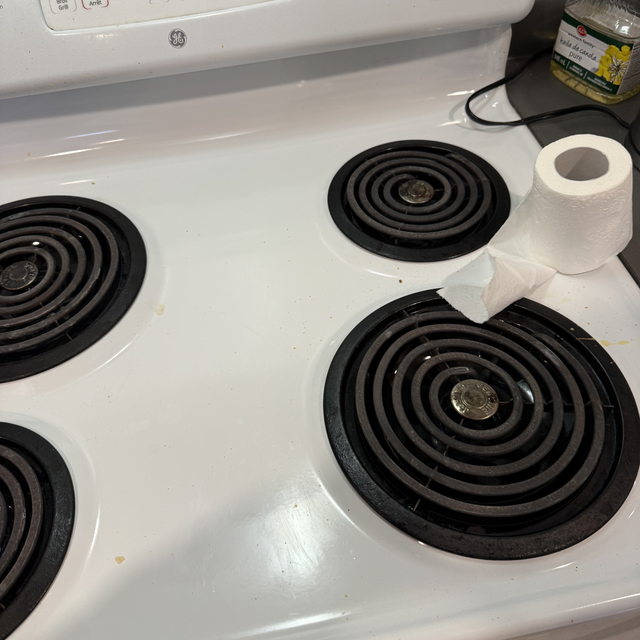Stove: (0, 0, 640, 640)
Toilet Paper: (503, 133, 635, 284)
